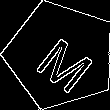M_NE: (25, 21, 96, 89)
